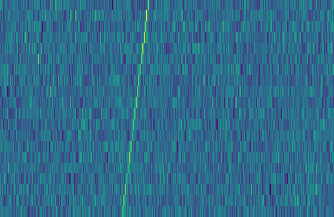signal: (117, 0, 153, 217)
